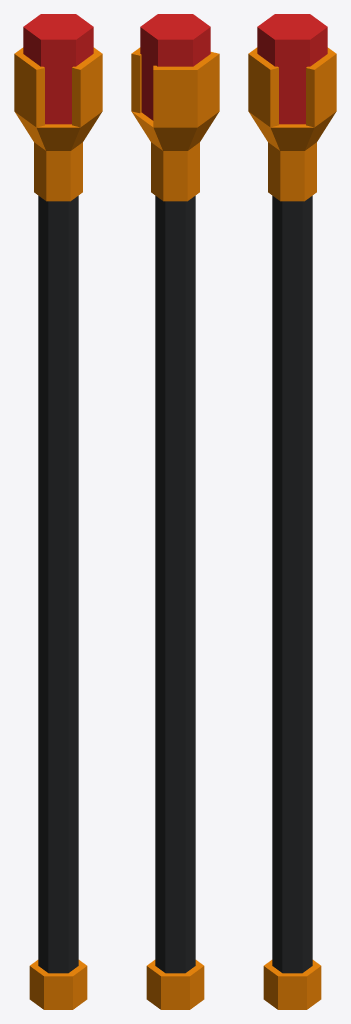
The model's file is RedKingBaston.fbx.
3 renders of one model, left to right at view 1: azimuth 90°, elevation 25°; view 2: azimuth 210°, elevation 25°; view 3: azimuth 270°, elevation 25°, orthographic.
Parts seen in each view (by area): view 1: KingBaston; view 2: KingBaston; view 3: KingBaston.
Boxes of the visible parts, x1=… form: KingBaston: x1=14, y1=14, x2=102, y2=1009; KingBaston: x1=131, y1=14, x2=219, y2=1009; KingBaston: x1=248, y1=14, x2=336, y2=1009.
Size of the model in its own units: 0.0811 by 1.14 by 0.0936.
